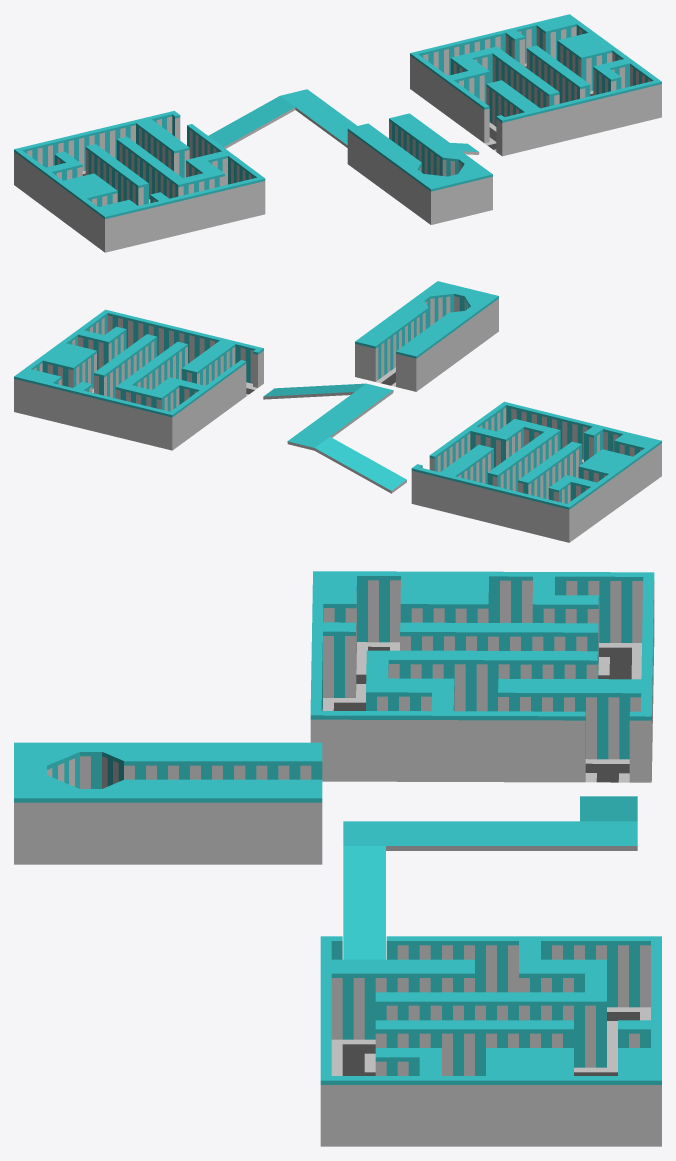
Rendered from levelobj8.fbx.
3 renders of one model, top to bottom at view 1: azimuth 30°, elevation 25°; view 2: azimuth 150°, elevation 25°; view 3: azimuth 270°, elevation 25°, orthographic. The views are drawn at different scales.
Parts seen in each view (by area): view 1: Plane, Plane.001; view 2: Plane, Plane.001; view 3: Plane, Plane.001.
Part boxes in pixels (x1,y1,x2,y2): Plane: (14, 14, 661, 252); Plane.001: (347, 113, 492, 224); Plane: (14, 309, 661, 542); Plane.001: (355, 281, 498, 391); Plane: (310, 571, 661, 1146); Plane.001: (14, 742, 322, 864).
Size of the model in its own units: 5599 by 625 by 3038.
